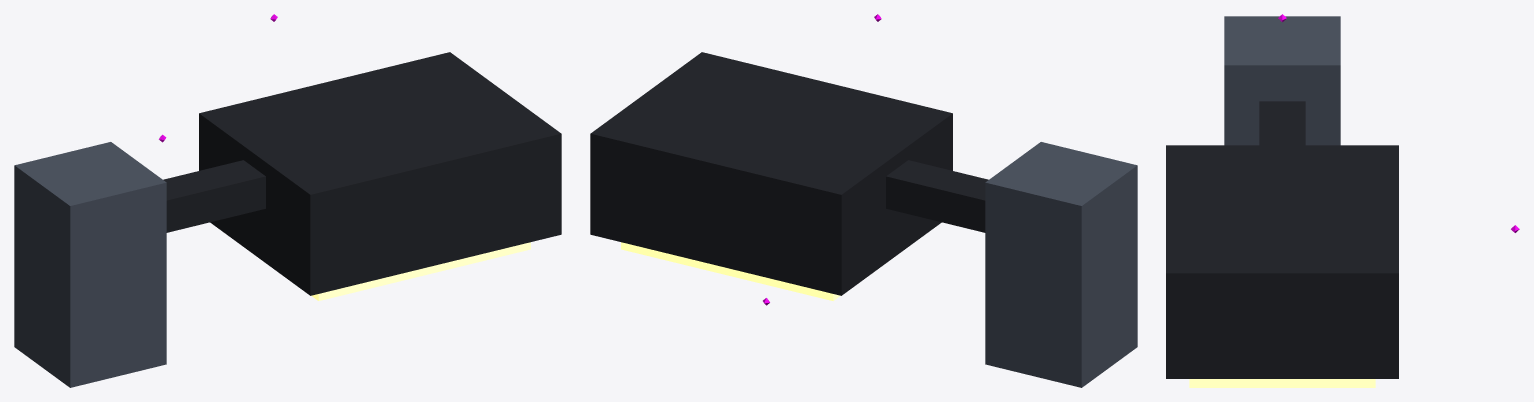
File: LampHead.glb
3 views of the same model, side by side, from view 1: azimuth 30°, elevation 25°; view 2: azimuth 150°, elevation 25°; view 3: azimuth 270°, elevation 25° (orthographic). The views are drawn at different scales.
Parts seen in each view (by area): view 1: Dark, Steel, Glow; view 2: Dark, Steel, Glow; view 3: Dark, Steel, Glow.
Part boxes in pixels (box(x1,y1,x2,y2)): Dark: box(163, 52, 561, 295); Steel: box(14, 142, 166, 387); Glow: box(311, 242, 530, 300); Dark: box(590, 52, 988, 295); Steel: box(985, 142, 1137, 387); Glow: box(621, 242, 840, 300); Dark: box(1166, 101, 1398, 378); Steel: box(1224, 16, 1340, 145); Glow: box(1189, 379, 1375, 387).
Bounding box in the file's own units: 2.4 × 1.47 × 1.52.
